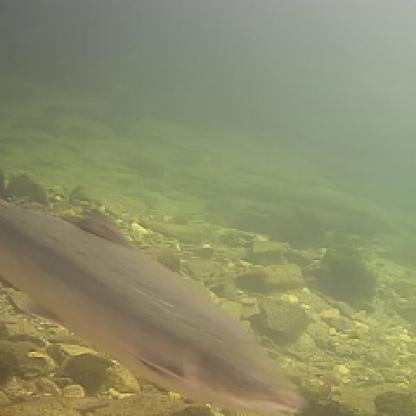salmon: (0, 194, 309, 414)
